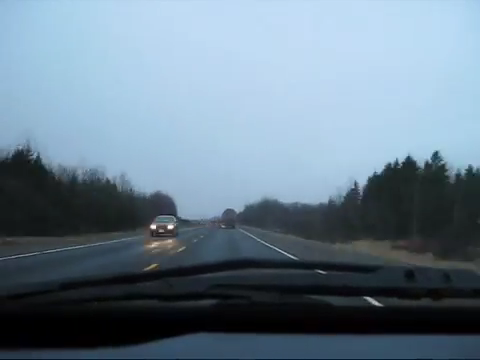car: (149, 214, 179, 238)
